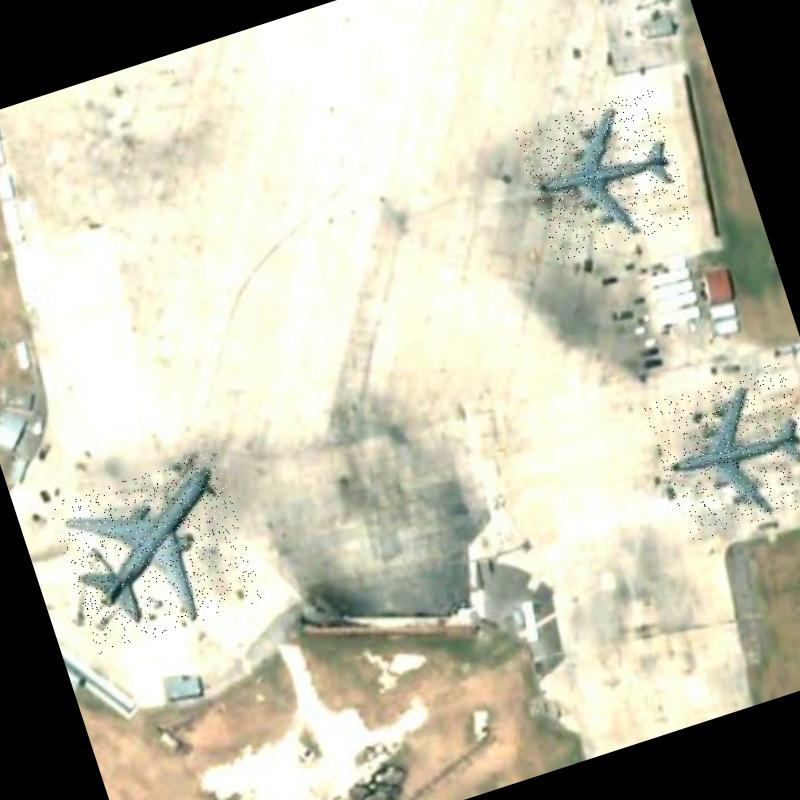A14: (514, 86, 694, 265), (643, 360, 800, 544)
A18: (48, 450, 265, 656)
